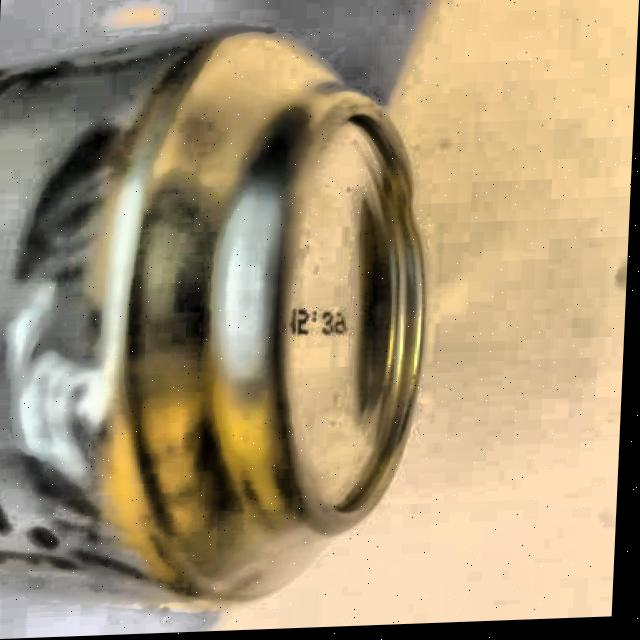metal: (0, 19, 438, 623)
